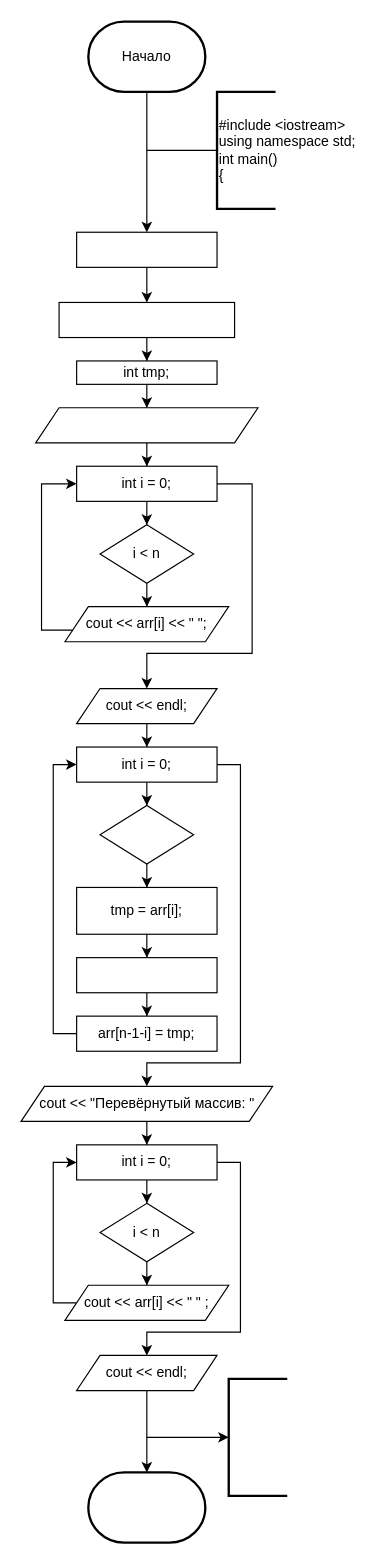
Image size: 376x1563. Some labels were removed from this diagram. The centre of each missing label's shape, as x and y in pixels:
arr[i] = arr[n-1-i];: (146,974)
const int n = 4;: (146,249)
cout << " Исходный массив: ": (146,425)
i < n/2: (146,834)
int arr[n] = {41, 42, 66, 77};: (146,319)
return 0;: (257,1436)
Конец: (146,1507)
